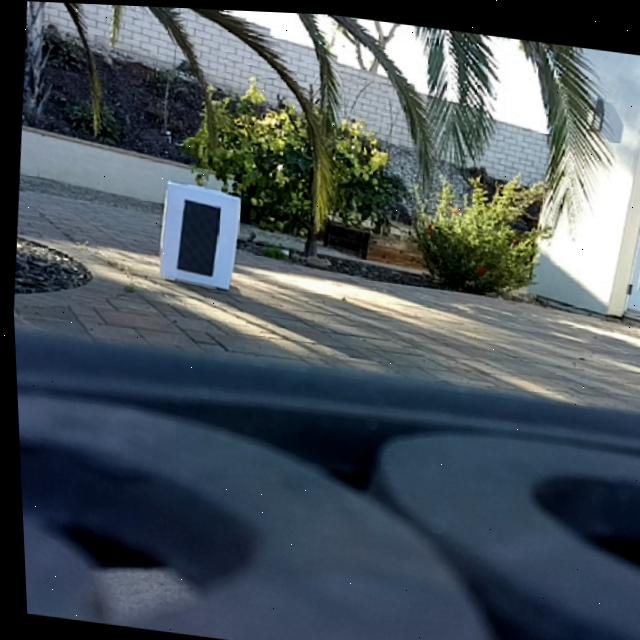led: (170, 195, 221, 275)
